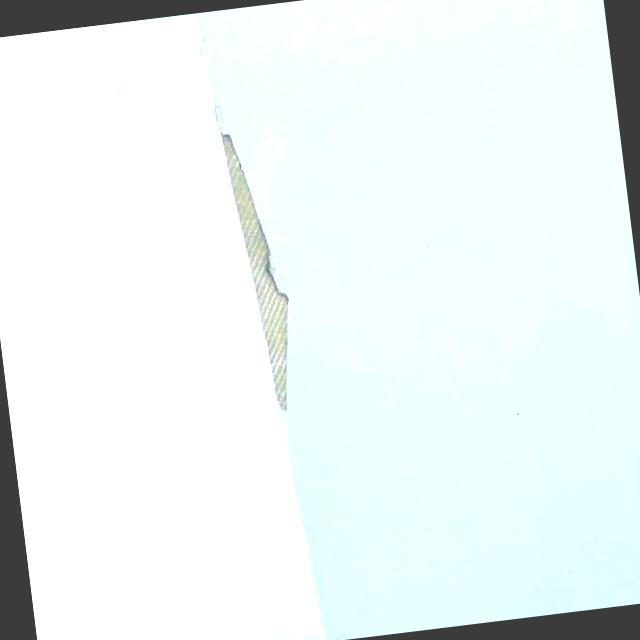surface_peeling: (220, 126, 304, 416)
